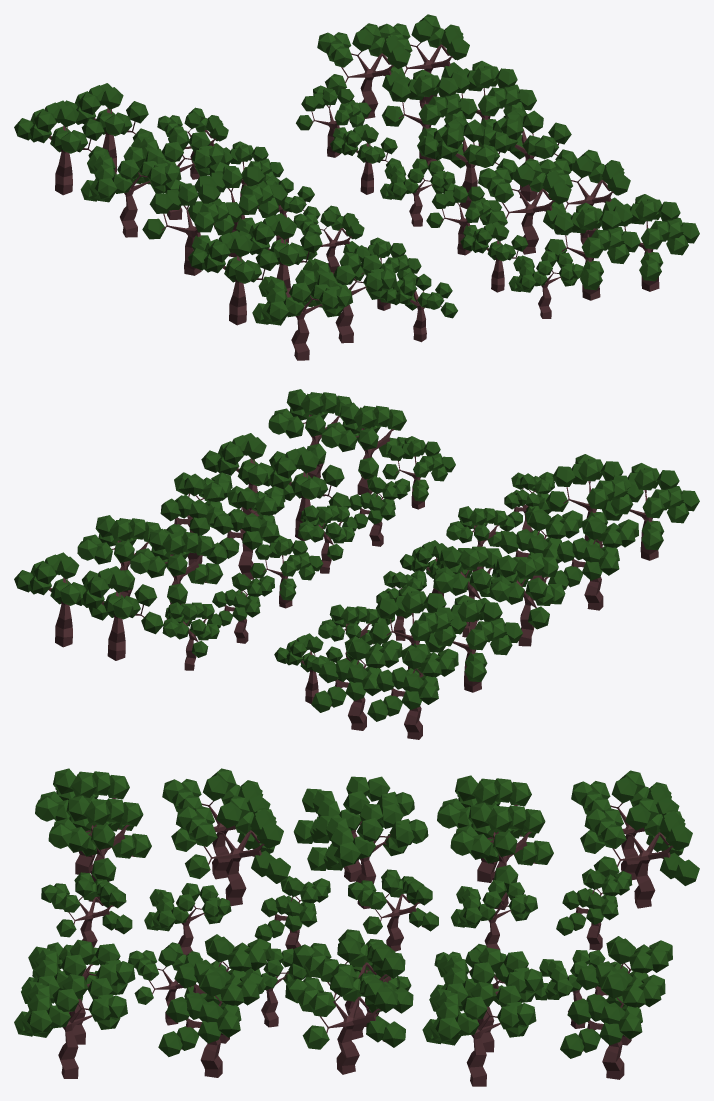
Rendered from Mango_Farm_Cluster_Model.glb.
3 renders of one model, top to bottom at view 1: azimuth 30°, elevation 25°; view 2: azimuth 150°, elevation 25°; view 3: azimuth 270°, elevation 25°, orthographic. The views are drawn at different scales.
Parts seen in each view (by area): view 1: Icosphere.012, Icosphere.014, Icosphere.001, Icosphere.002, Icosphere.013; view 2: Icosphere.012, Icosphere.001, Icosphere.014, Icosphere.013, Icosphere.002; view 3: Icosphere.002, Icosphere.013, Icosphere.012, Icosphere.001, Icosphere.014.
Boxes of the visible parts, x1,y1,x2,y2 form: Icosphere.012: (157,85,584,342); Icosphere.014: (317,23,640,300); Icosphere.001: (14,100,352,360); Icosphere.002: (378,14,699,291); Icosphere.013: (65,83,397,343); Icosphere.012: (162,436,554,703); Icosphere.001: (367,463,699,739); Icosphere.014: (76,402,406,660); Icosphere.013: (311,454,643,730); Icosphere.002: (14,389,359,647); Icosphere.002: (14,963,665,1086); Icosphere.013: (48,795,699,909); Icosphere.012: (32,868,632,1028); Icosphere.001: (35,768,683,882); Icosphere.014: (21,929,672,1052).
Size of the model in its own units: 511 by 115 by 600.
